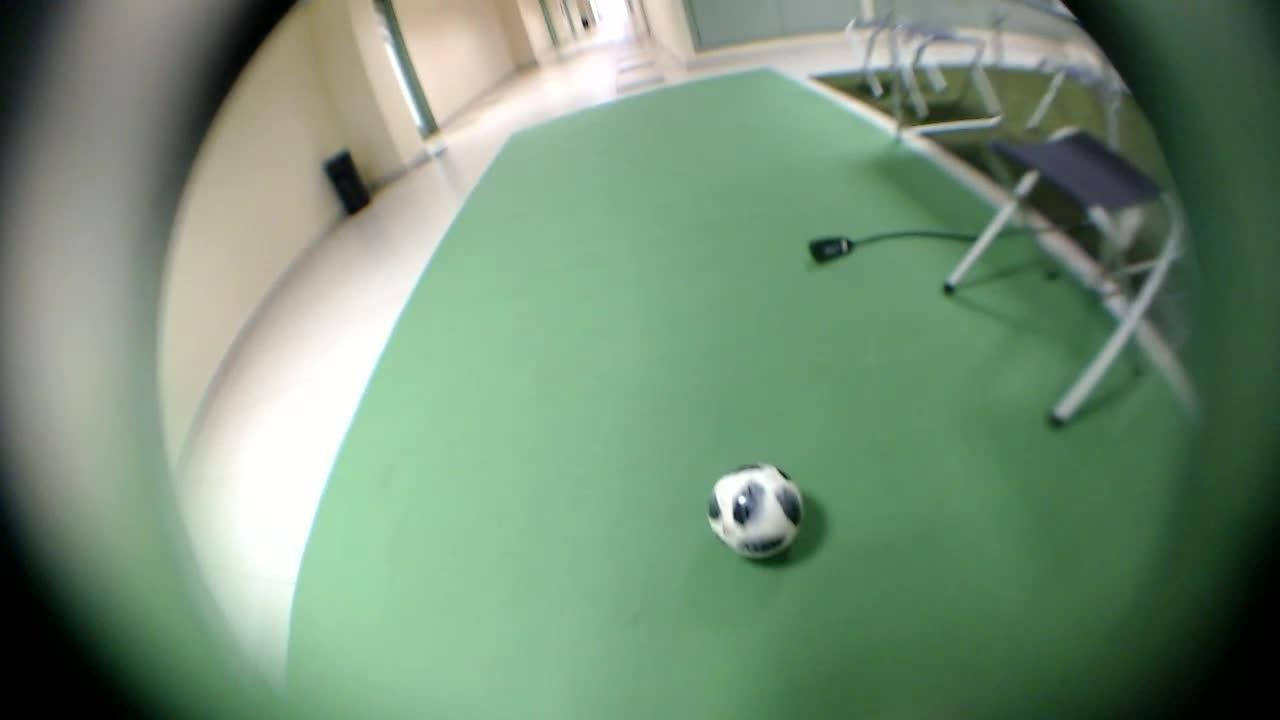ball: (693, 447, 814, 563)
